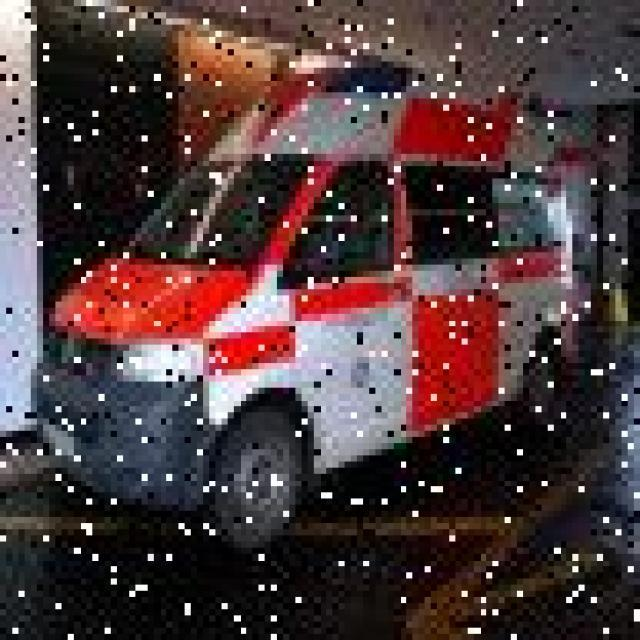emergency-vehicle: (34, 56, 582, 542)
